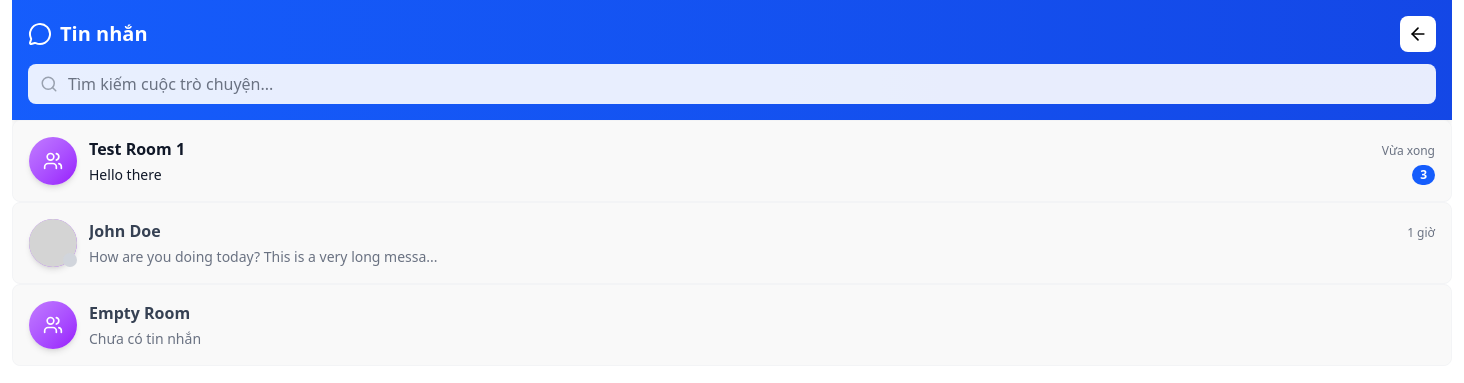
RoomList Component › Search Functionality › should show empty state when search has no results
Expected: the heading "Test Room 1" is shown, [89,137,185,161]
In the field with placeholder "Tìm kiếm cuộc trò chuyện...": (732, 84) [28,64,1436,104], type "NonExistentRoom"
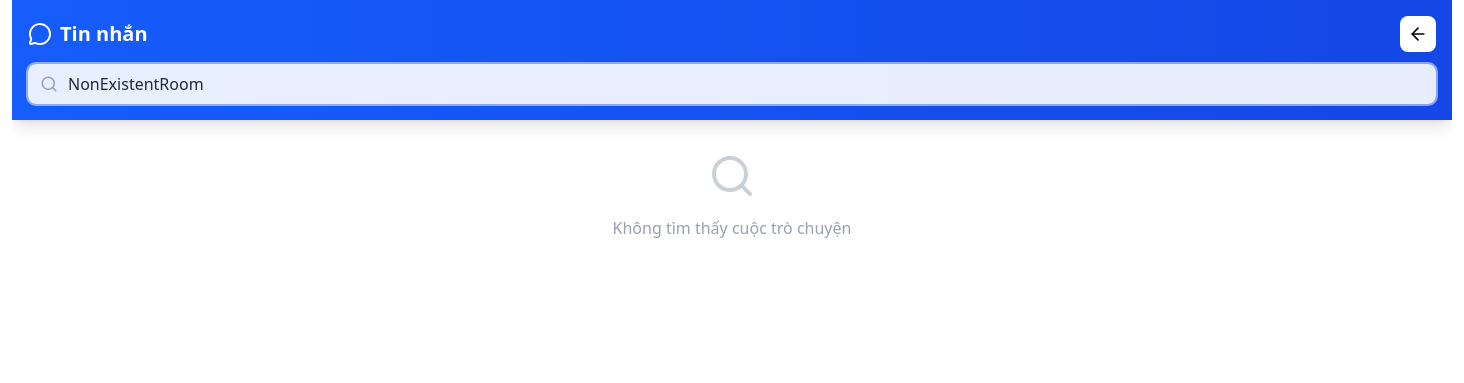
Expected: the text "Không tìm thấy cuộc trò chuyện" is shown, [613,216,852,240]
